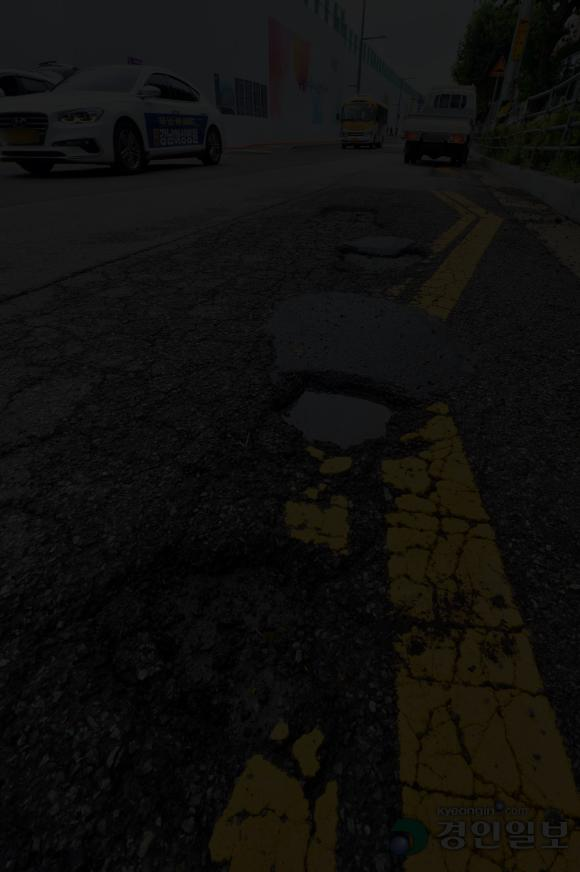pothole: (272, 362, 409, 469), (322, 240, 450, 285), (309, 195, 397, 235)
